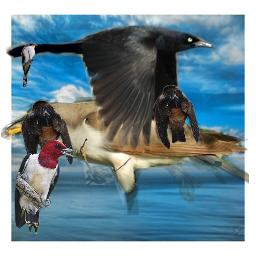Crow: (6, 23, 218, 150)
Cuckoo: (1, 97, 249, 215), (21, 42, 38, 87)
Swallow: (21, 100, 74, 173), (153, 85, 200, 150)
Woodpecker: (12, 140, 80, 234)
